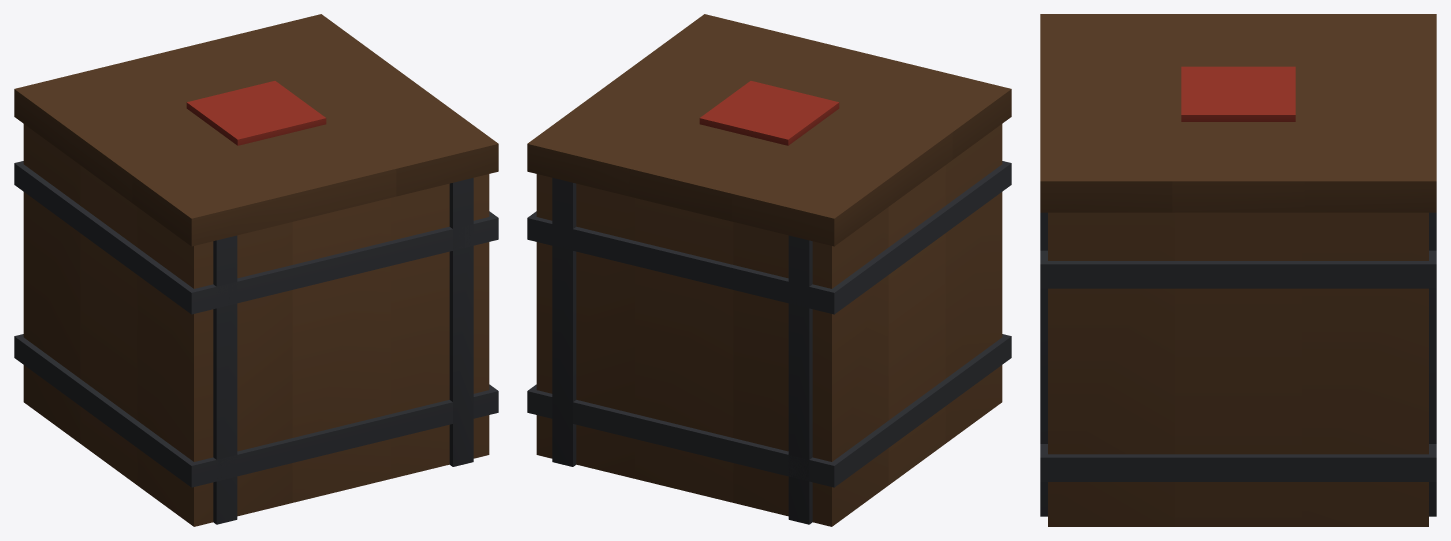
Rendered from kit_crate.glb.
3 renders of one model, left to right at view 1: azimuth 30°, elevation 25°; view 2: azimuth 150°, elevation 25°; view 3: azimuth 270°, elevation 25°, orthographic. The views are drawn at different scales.
Visible parts, largest first — view 1: crate_body, lid; view 2: crate_body, lid; view 3: crate_body, lid.
Boxes of the visible parts, x1,y1,x2,y2 form: crate_body: [14, 124, 498, 526]; lid: [14, 14, 498, 246]; crate_body: [527, 124, 1011, 526]; lid: [527, 14, 1011, 246]; crate_body: [1040, 212, 1436, 526]; lid: [1040, 14, 1436, 212].
Bounding box in the file's own units: 3.12 × 3.09 × 3.12.
